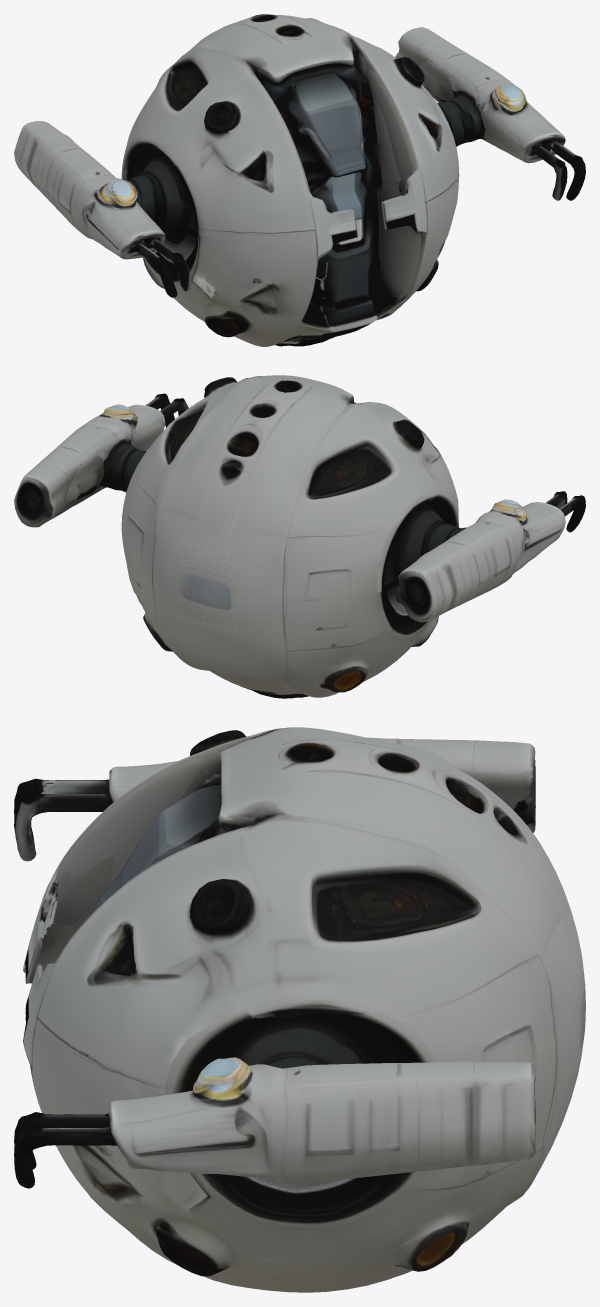
File: user_player_core_original_unrotated.glb
3 renders of one model, top to bottom at view 1: azimuth 30°, elevation 25°; view 2: azimuth 150°, elevation 25°; view 3: azimuth 270°, elevation 25°, orthographic. The views are drawn at different scales.
Visible parts, largest first — view 1: model; view 2: model; view 3: model.
Boxes of the visible parts, x1=… form: model: x1=14, y1=14, x2=585, y2=346; model: x1=14, y1=375, x2=585, y2=698; model: x1=14, y1=727, x2=585, y2=1292.
Bounding box in the file's own units: 1.91 × 1.24 × 1.24.
1 material, 1 textured.
